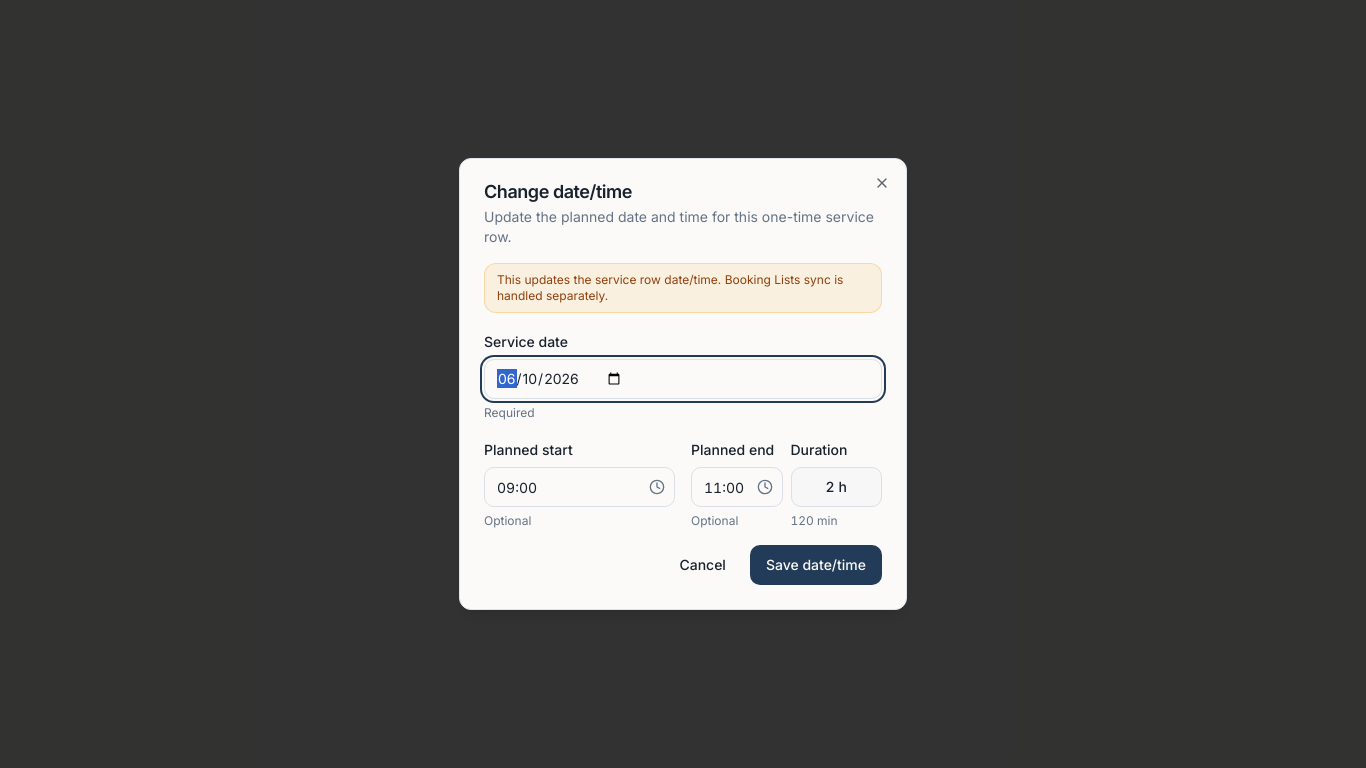
Test case: CORE-WRITES-WORKORDERS-A1.2.4a ChangeDateTimeDialog › keeps the dialog open when fresh Supabase verification fails
In the date field named "Service date": (683, 379) top-left (484, 359), bottom-right (882, 399), type "2026-06-12"
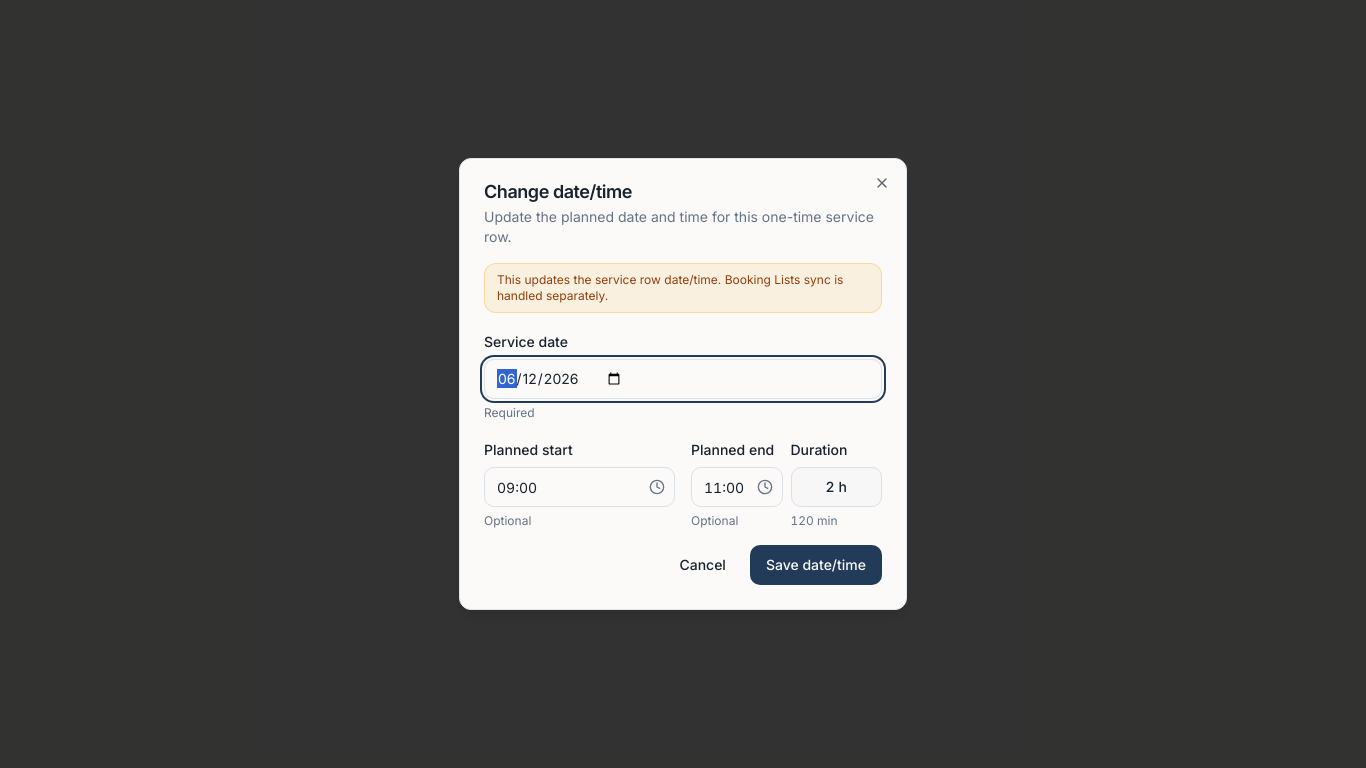
Click the button "Save date/time": (816, 565) top-left (750, 545), bottom-right (882, 585)
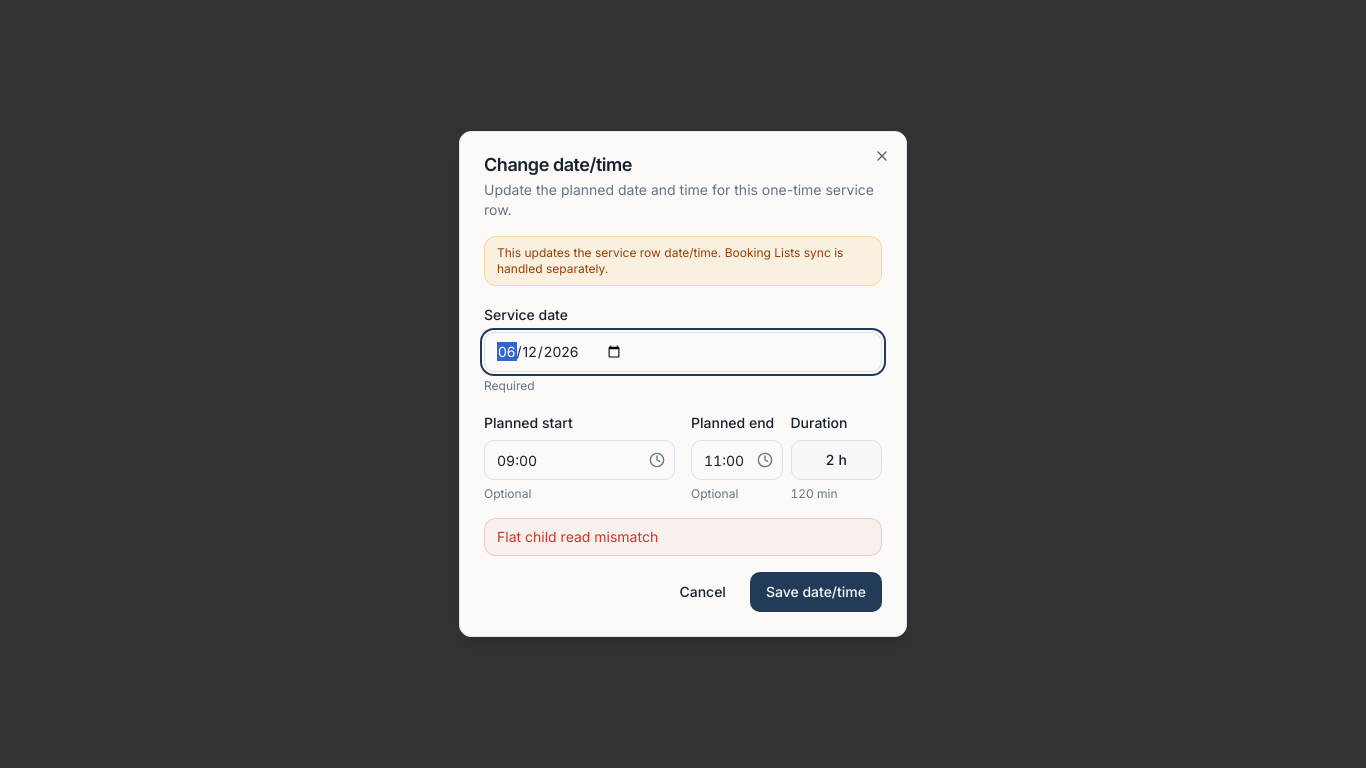
expect the text "Flat child read mismatch" is shown: met, box top-left (484, 518), bottom-right (882, 556)
